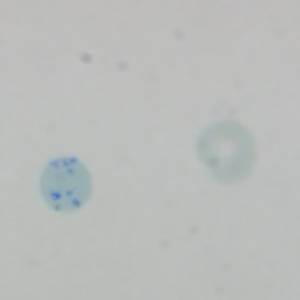aggregate reticulocyte: (37, 156, 93, 213)
erythrocyte: (194, 119, 256, 187)
